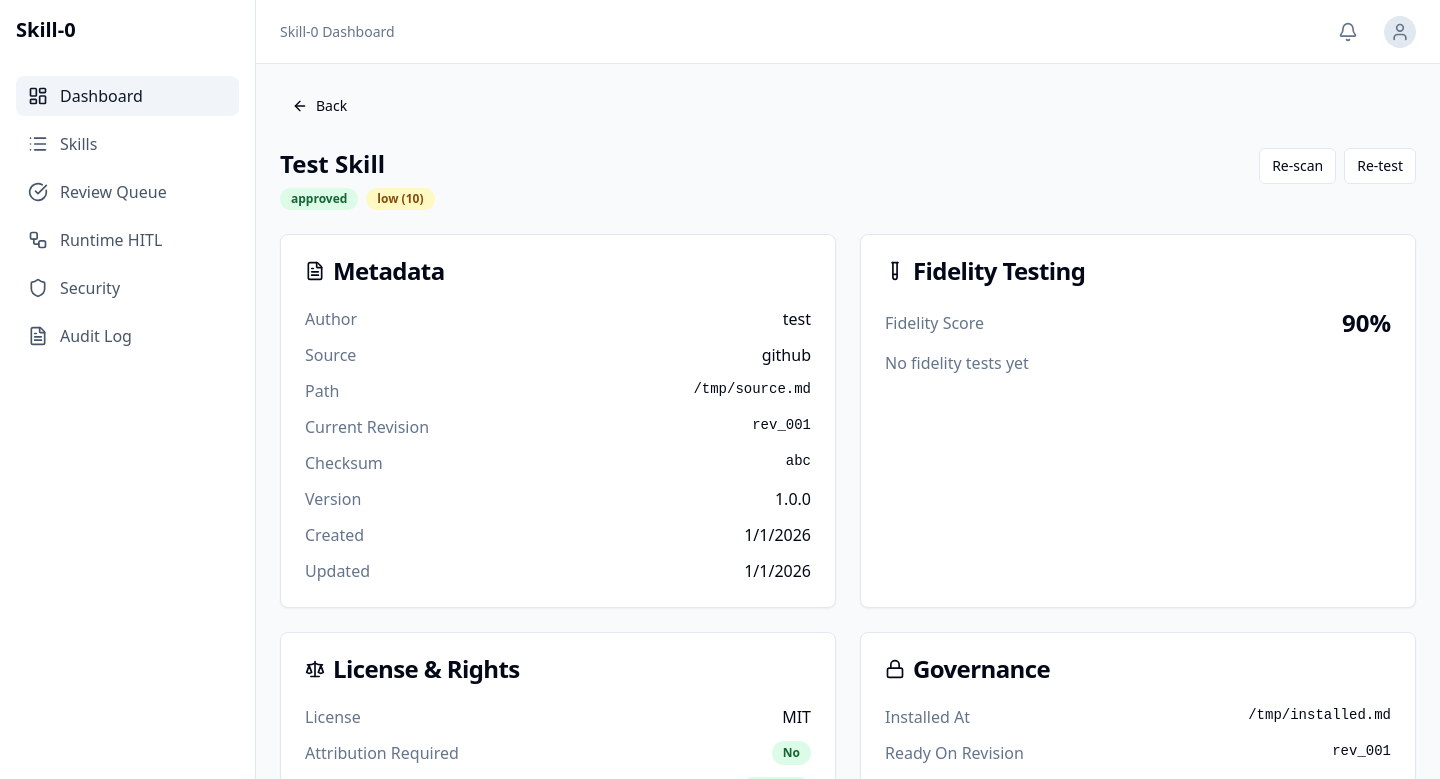
Test: SkillDetail async action jobs › enqueues a scan job from the detail page
Click the button "Re-scan".
click(1298, 166)  # box [1259,148,1336,184]
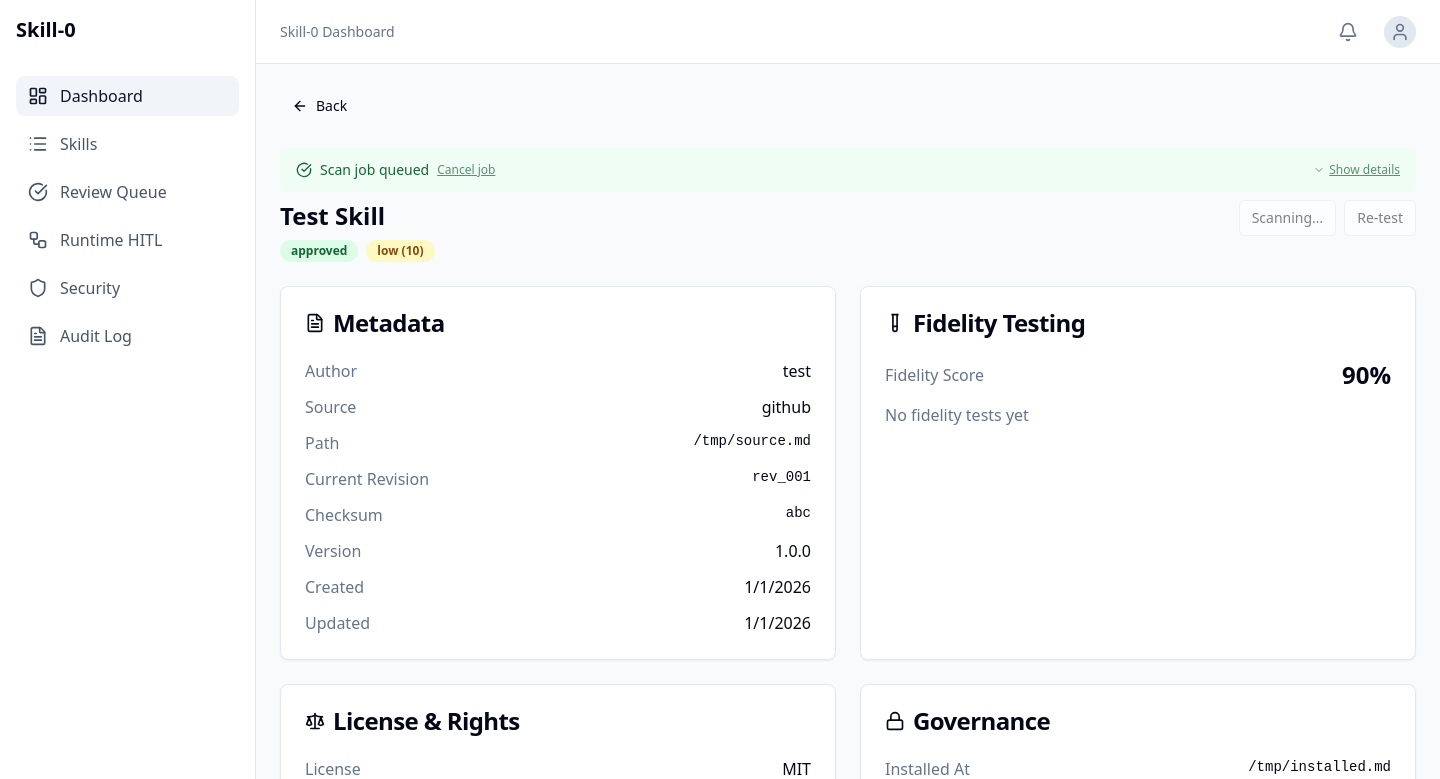
Result: the text "Scan job queued" is shown at [320,160,429,179]
